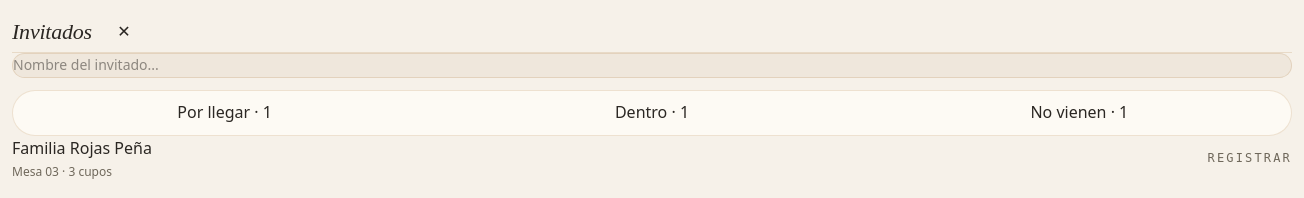
Scenario: la lista de la puerta (9 oct: el portero ve quién falta y quién entró, sin poder editar nada) › una invitación que entró entera no se vuelve a registrar
Click the tab "Dentro · 1": (652, 113) [440,91,864,135]
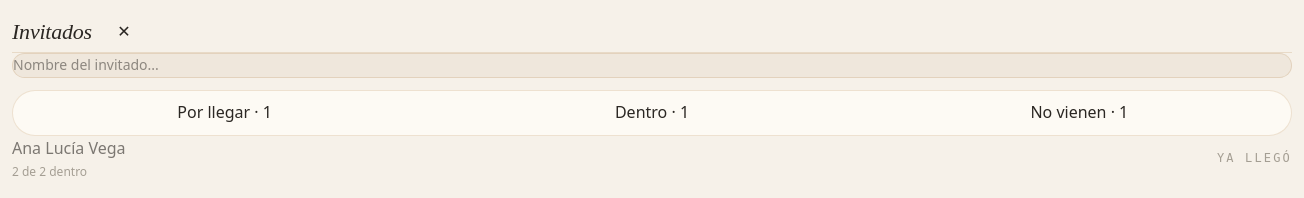
Expected: the button "Ana Lucía Vega 2 de 2 dentro Ya llegó" is disabled, [12,136,1292,181]
